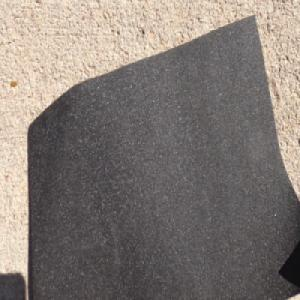PaintChip: (27, 18, 300, 300)
